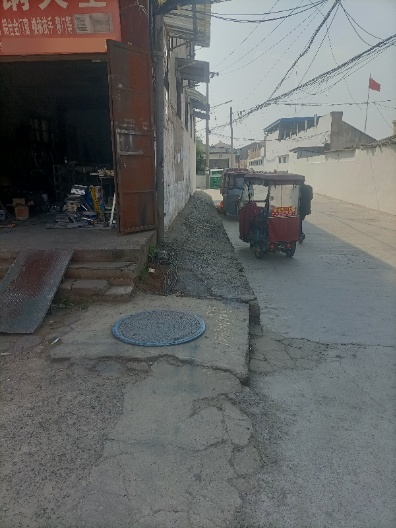well: (112, 307, 207, 346)
